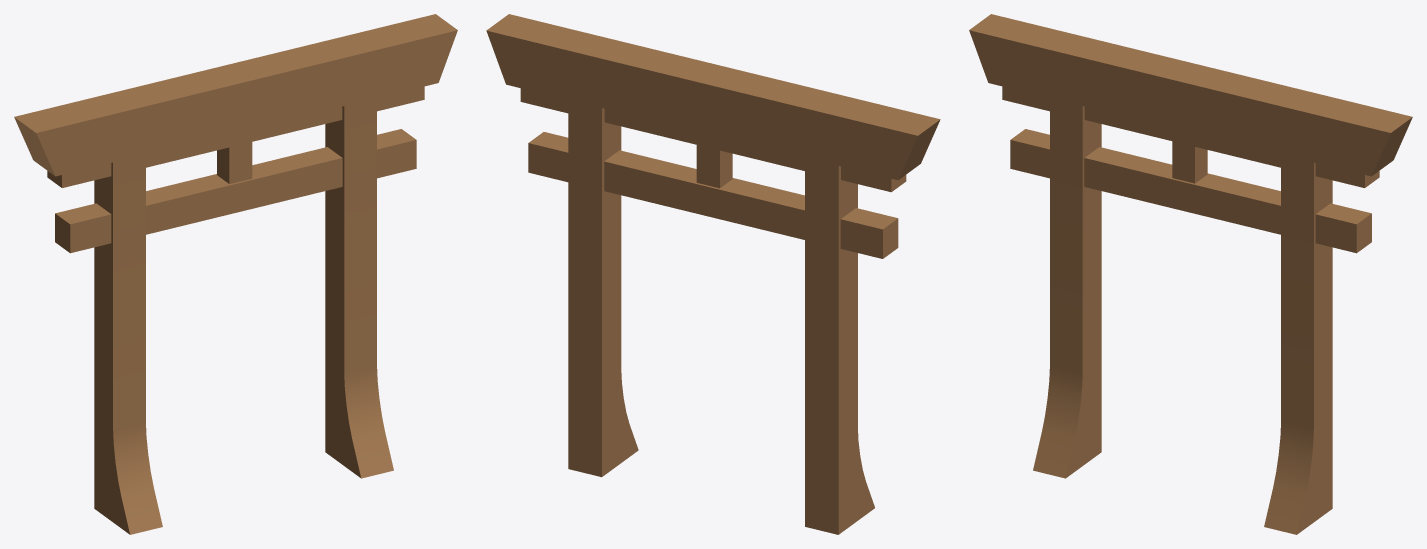
The model's file is torii.glb.
The picture shows the model from 3 angles, left to right: view 1: azimuth 30°, elevation 25°; view 2: azimuth 150°, elevation 25°; view 3: azimuth 330°, elevation 25°; orthographic projection. The views are drawn at different scales.
Visible parts, largest first — view 1: Environment_ToriiGate; view 2: Environment_ToriiGate; view 3: Environment_ToriiGate.
Part boxes in pixels (x1,y1,x2,y2): Environment_ToriiGate: (14,14,457,534); Environment_ToriiGate: (486,14,940,534); Environment_ToriiGate: (969,14,1412,534).
Bounding box in the file's own units: 5.73 × 5.32 × 0.8752.
1 material, 1 textured.
